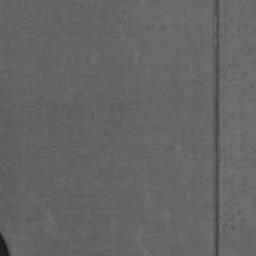Welding line: (210, 0, 223, 256)
